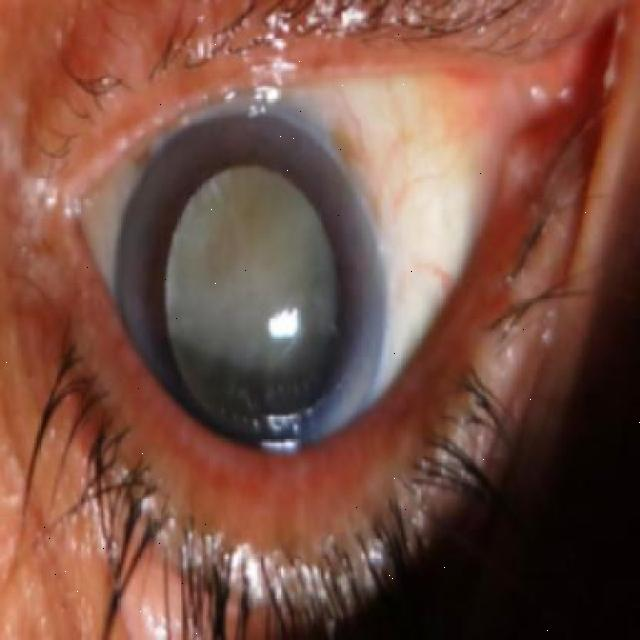Cataract: (116, 113, 382, 463)
